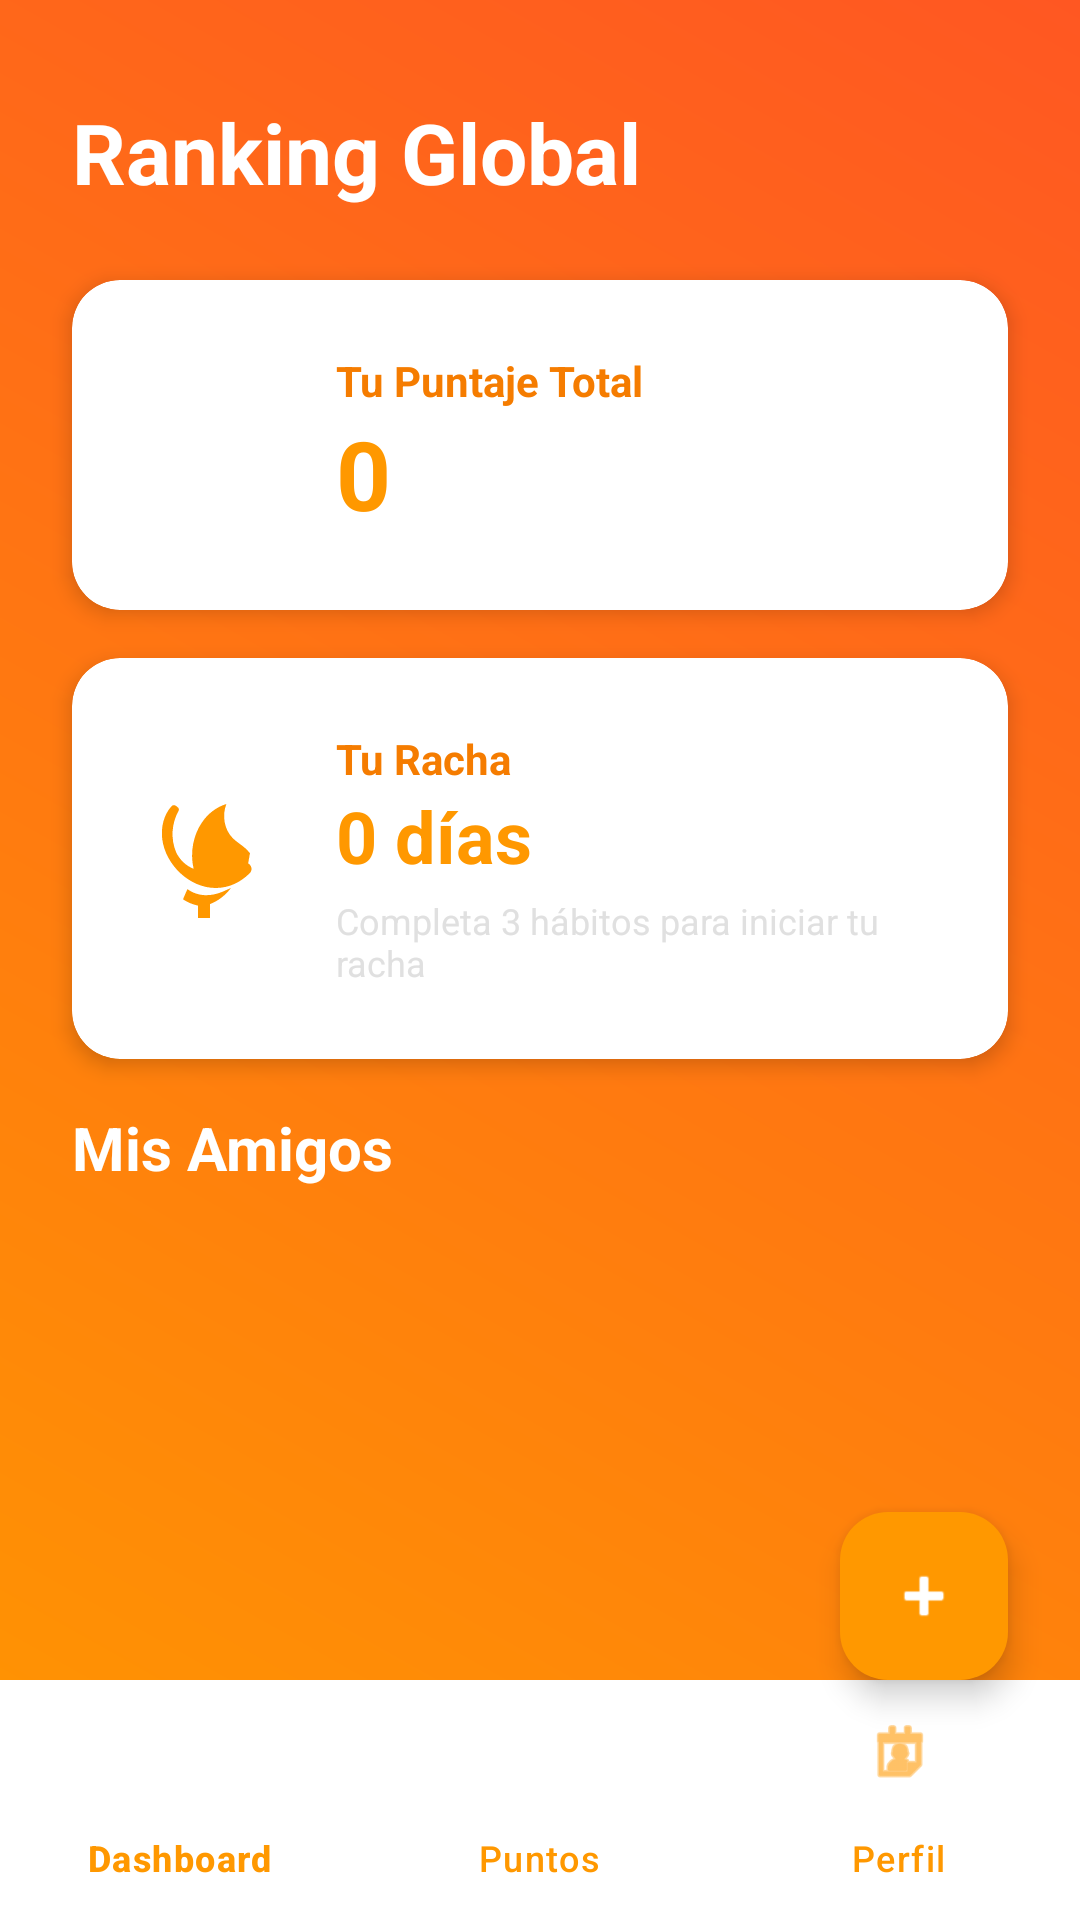

Named icons in this screenshot (1080×1920) and their bounding boxes, (x1, y1, x2, y2):
add: (840, 1512, 1008, 1680)
